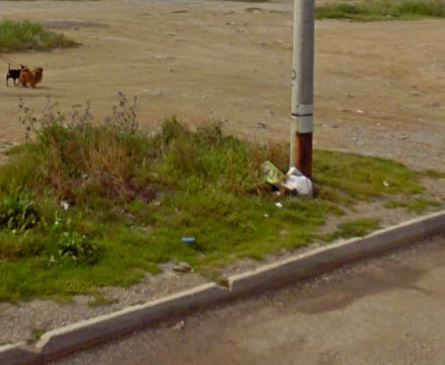trash: (251, 158, 317, 202), (177, 230, 209, 248)
